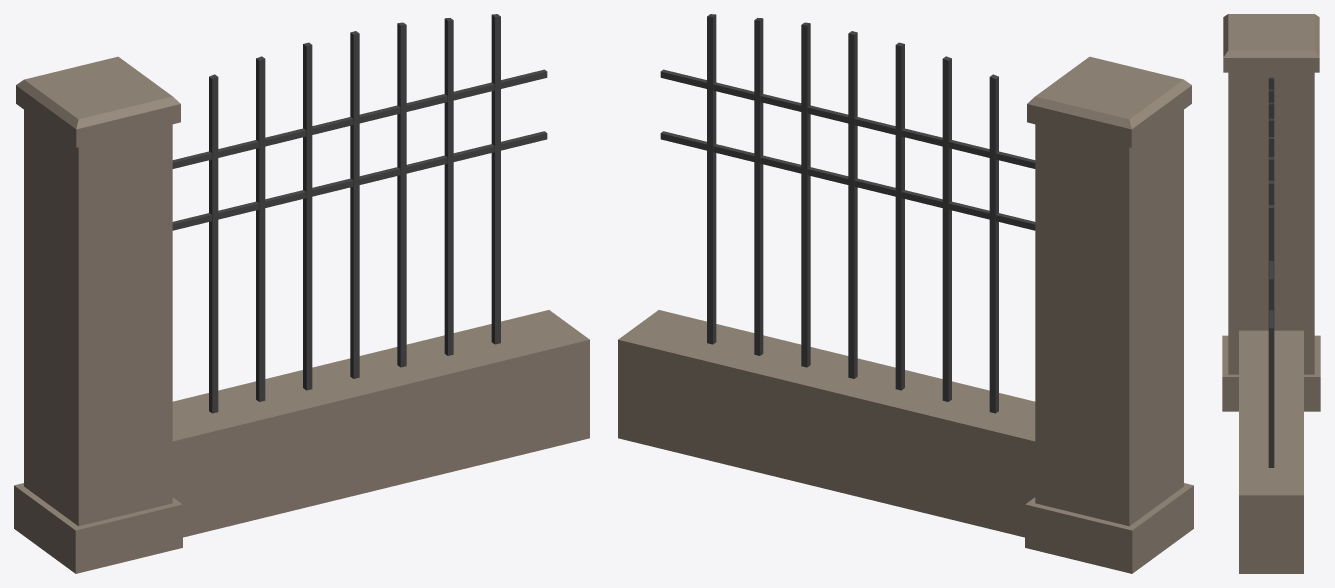
Rendered from Fence_08.fbx.
3 renders of one model, left to right at view 1: azimuth 30°, elevation 25°; view 2: azimuth 150°, elevation 25°; view 3: azimuth 270°, elevation 25°, orthographic. The views are drawn at different scales.
Parts seen in each view (by area): view 1: Fence_08; view 2: Fence_08; view 3: Fence_08.
Part boxes in pixels (left/top/right/bottom): Fence_08: left=14, top=14, right=589, bottom=573; Fence_08: left=618, top=14, right=1193, bottom=573; Fence_08: left=1222, top=14, right=1320, bottom=573.
Bounding box in the file's own units: 223 × 183 × 45.43.
